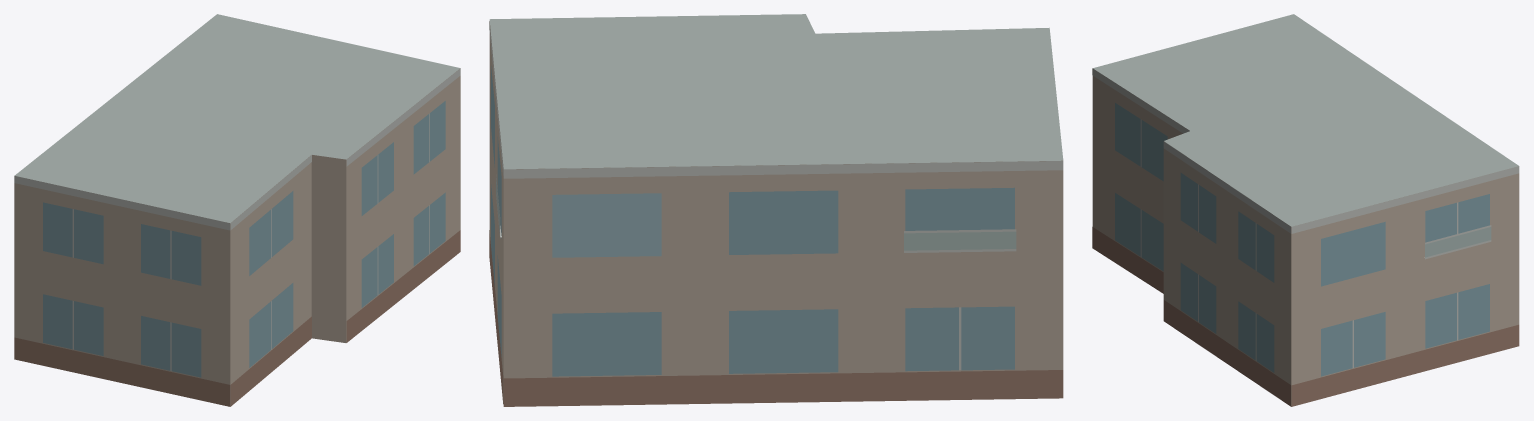
File: survey-upis-32908161.glb
3 renders of one model, left to right at view 1: azimuth 30°, elevation 25°; view 2: azimuth 150°, elevation 25°; view 3: azimuth 270°, elevation 25°, orthographic. The views are drawn at different scales.
Parts seen in each view (by area): view 1: survey-upis-32908161.tmp; view 2: survey-upis-32908161.tmp; view 3: survey-upis-32908161.tmp.
Boxes of the visible parts, x1,y1,x2,y2 form: survey-upis-32908161.tmp: (14,14,460,406); survey-upis-32908161.tmp: (489,14,1063,406); survey-upis-32908161.tmp: (1092,14,1519,406).
Size of the model in its own units: 15.48 by 6.1 by 13.11.
